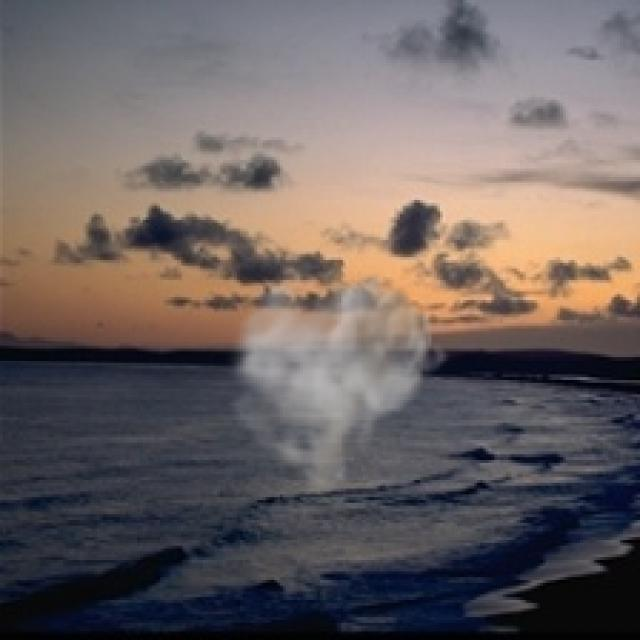Smoke: (223, 252, 451, 508)
